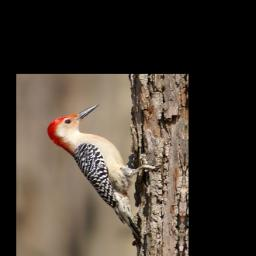Woodpecker: (39, 102, 165, 241)
